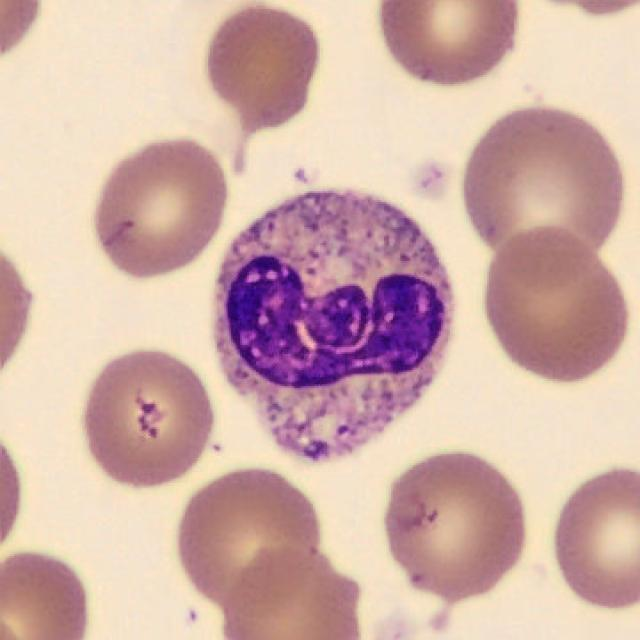Neutrofilo segmentado: (212, 193, 455, 463)
